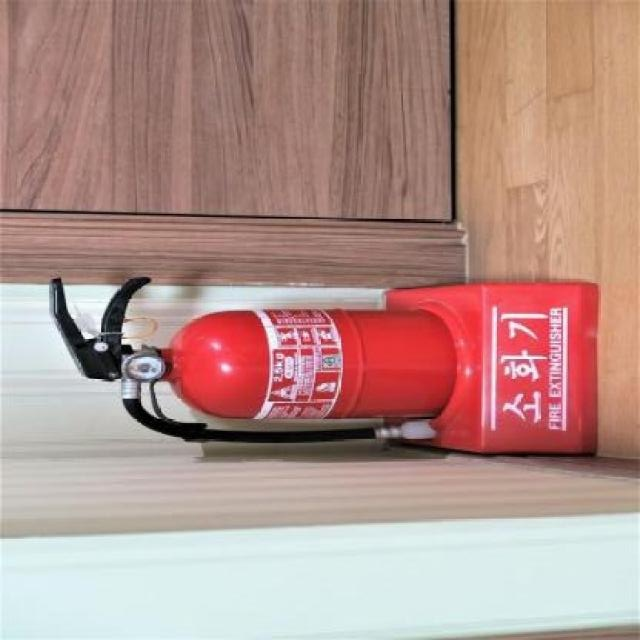fire extinguisher: (48, 276, 457, 442)
